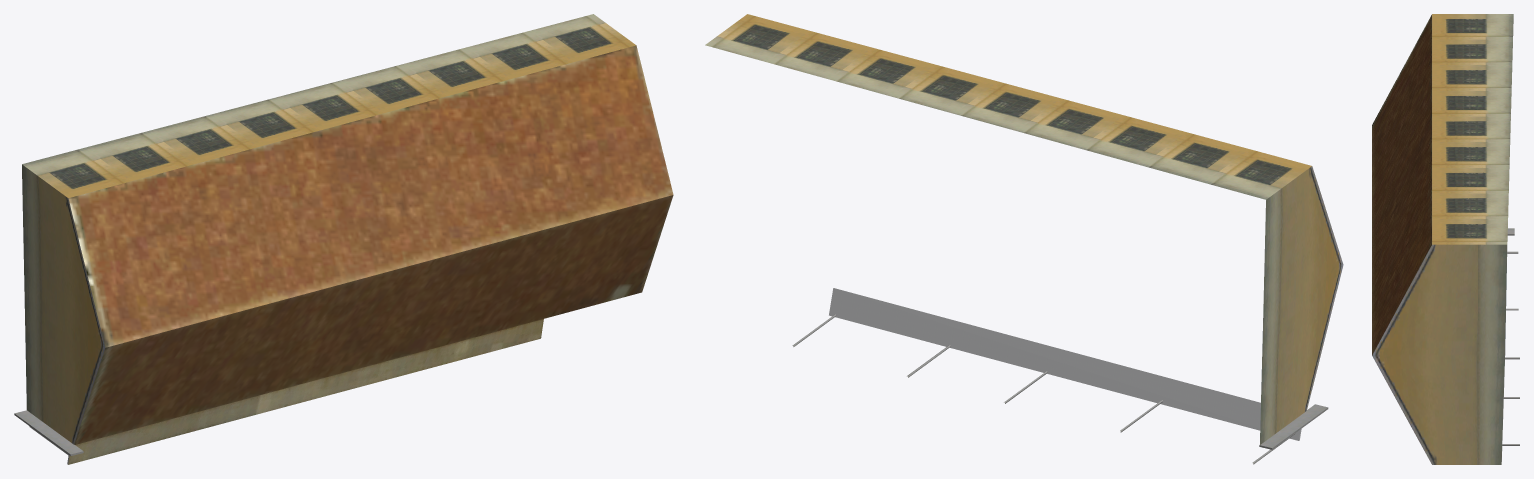
3 renders of one model, left to right at view 1: azimuth 30°, elevation 25°; view 2: azimuth 150°, elevation 25°; view 3: azimuth 270°, elevation 25°, orthographic. The views are drawn at different scales.
Parts seen in each view (by area): view 1: Group_MatrixTransform_i96014_Geometry_5, Group_MatrixTransform_i96014_Geometry_6, Group_MatrixTransform_i96014_Geometry_2, Group_MatrixTransform_i96014_Geometry_4, Group_MatrixTransform_i96014_Geometry_7; view 2: Group_MatrixTransform_i96014_Geometry_6, Group_MatrixTransform_i96014_Geometry_2, Group_MatrixTransform_i96014_Geometry_8, Group_MatrixTransform_i96014_Geometry_7; view 3: Group_MatrixTransform_i96014_Geometry_2, Group_MatrixTransform_i96014_Geometry_6, Group_MatrixTransform_i96014_Geometry_5, Group_MatrixTransform_i96014_Geometry_7.
Boxes of the visible parts, x1,y1,x2,y2 form: Group_MatrixTransform_i96014_Geometry_5: (68,45,673,444); Group_MatrixTransform_i96014_Geometry_6: (22,14,636,198); Group_MatrixTransform_i96014_Geometry_2: (22,164,105,444); Group_MatrixTransform_i96014_Geometry_4: (68,319,543,464); Group_MatrixTransform_i96014_Geometry_7: (14,410,83,455); Group_MatrixTransform_i96014_Geometry_6: (705,14,1311,199); Group_MatrixTransform_i96014_Geometry_2: (1260,166,1343,444); Group_MatrixTransform_i96014_Geometry_8: (829,288,1301,440); Group_MatrixTransform_i96014_Geometry_7: (792,314,1328,464); Group_MatrixTransform_i96014_Geometry_2: (1372,244,1507,464); Group_MatrixTransform_i96014_Geometry_6: (1432,14,1513,244); Group_MatrixTransform_i96014_Geometry_5: (1372,15,1431,355); Group_MatrixTransform_i96014_Geometry_7: (1502,228,1519,445).
Bounding box in the file's own units: 31.07 × 14.68 × 7.81.
Materials: 9 (9 with a texture image).
